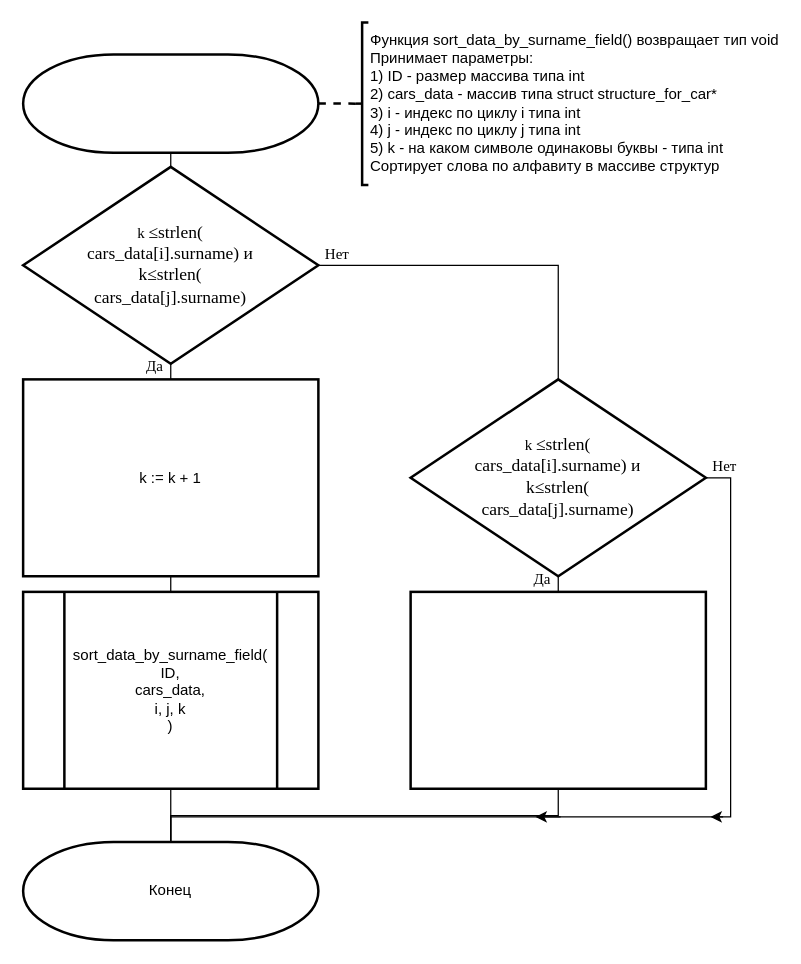
The diagram is 801 pixels wide and 964 high, and some of its shapes have lost their labels. Each missing label, with the centre of its shape:
"temp := cars_data[i] cars_data[i] := cars_data[j] cars_data[j] := temp" belongs at [557,689].
"void sort_data_by_surname_field()" belongs at [170,102].
